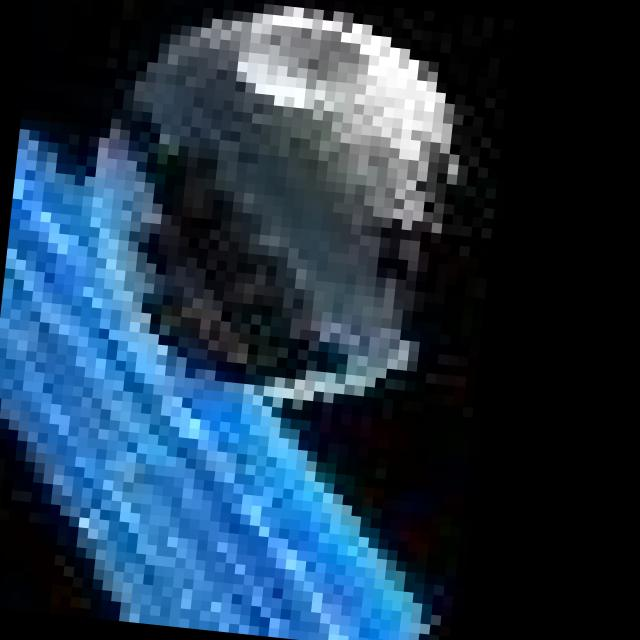Death Star: (82, 0, 524, 429)
